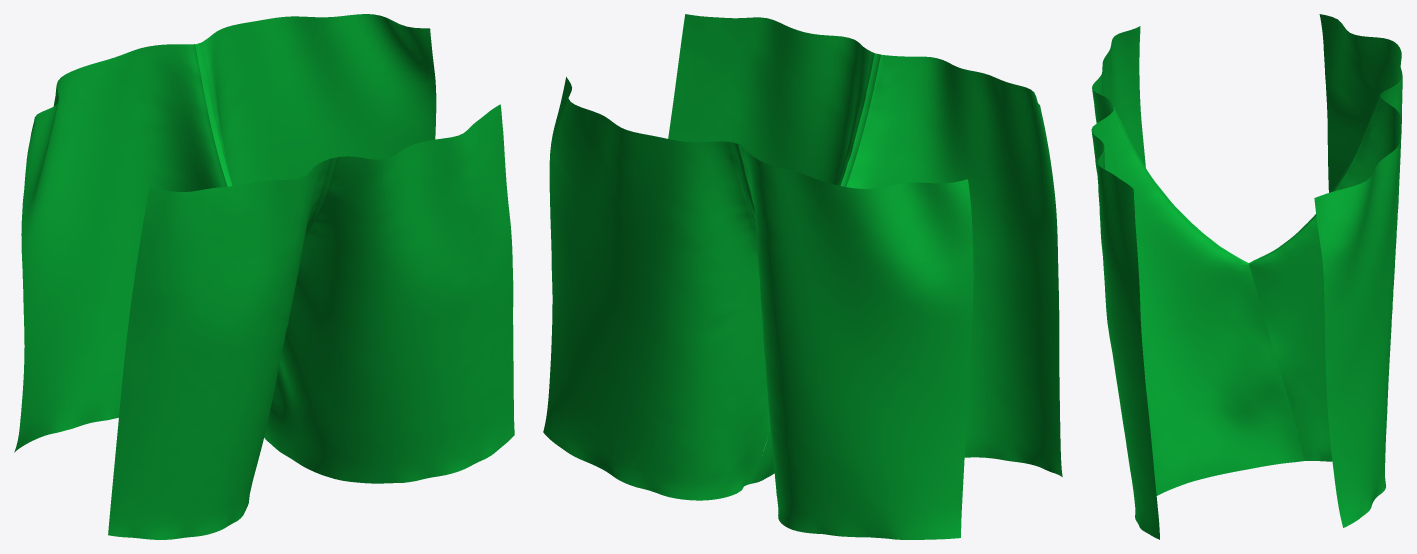
The model's file is BX_4_JOSHUA_CURVED_1.glb.
The picture shows the model from 3 angles, left to right: view 1: azimuth 30°, elevation 25°; view 2: azimuth 150°, elevation 25°; view 3: azimuth 270°, elevation 25°; orthographic projection. The views are drawn at different scales.
Visible parts, largest first — view 1: BX_4_JOSHUA_CURVED_1; view 2: BX_4_JOSHUA_CURVED_1; view 3: BX_4_JOSHUA_CURVED_1.
Part boxes in pixels (bbox=[...]): BX_4_JOSHUA_CURVED_1: bbox=[14, 14, 514, 539]; BX_4_JOSHUA_CURVED_1: bbox=[543, 14, 1062, 539]; BX_4_JOSHUA_CURVED_1: bbox=[1091, 14, 1402, 539].
Bounding box in the file's own units: 4.19 × 3.65 × 2.82.
